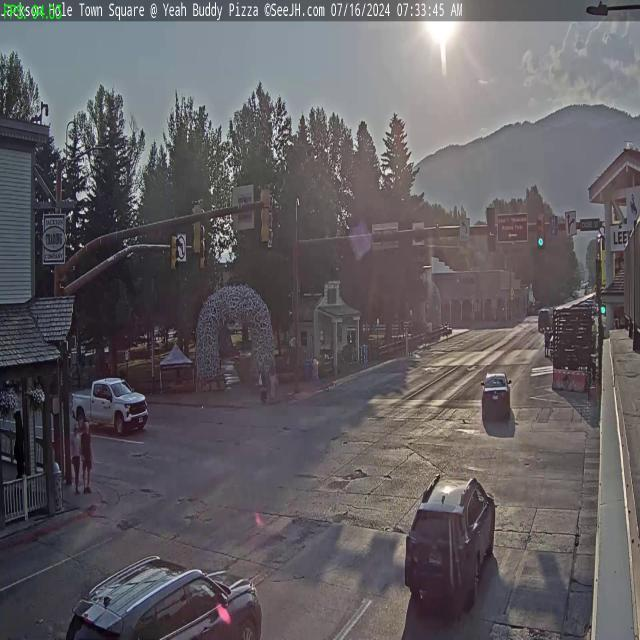person: (78, 405, 90, 492), (70, 418, 82, 494), (268, 358, 276, 403), (260, 363, 268, 403)
pickup: (72, 376, 150, 438)
sedan: (480, 371, 513, 421)
suv: (62, 551, 266, 640), (401, 469, 498, 627)
traffic light: (260, 185, 274, 245), (190, 200, 203, 256), (486, 206, 497, 253), (170, 234, 180, 272), (537, 214, 546, 248)
